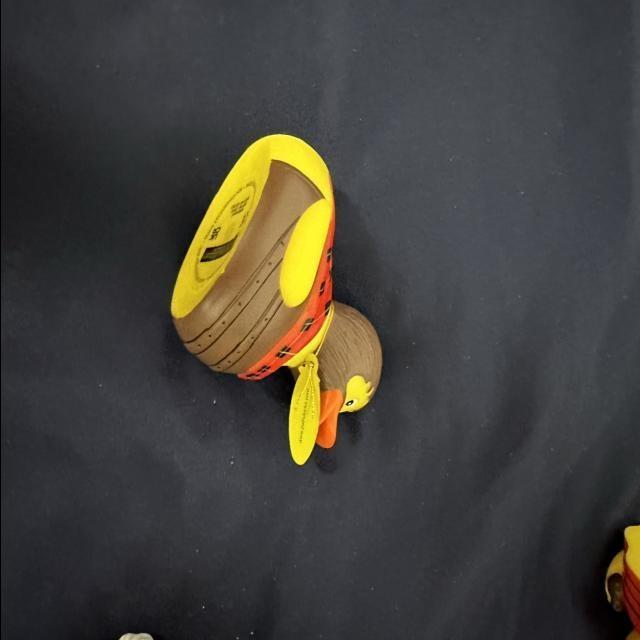rubber-duck: (170, 134, 380, 462)
